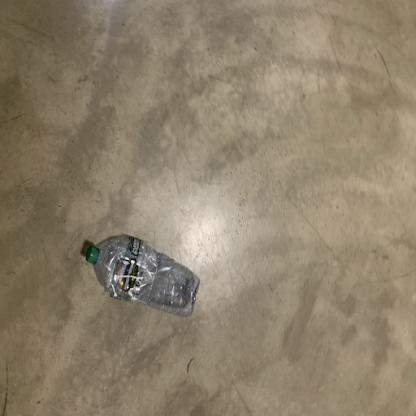trash: (84, 233, 200, 317)
